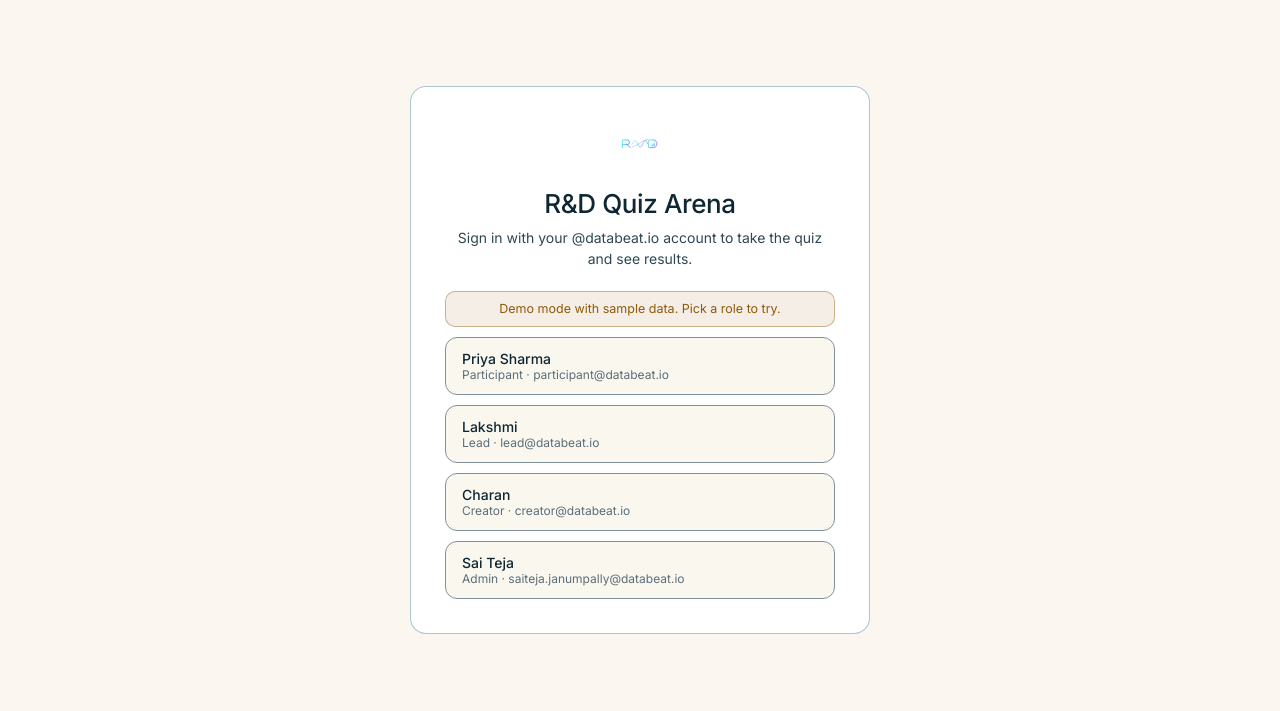
Scenario: removing a profile › signs the person out, keeps their history, and reconnects it when they sign in again
Click the button "Priya Sharma Participant · participant@databeat.io".
click(640, 366)  # box [445,337,835,395]
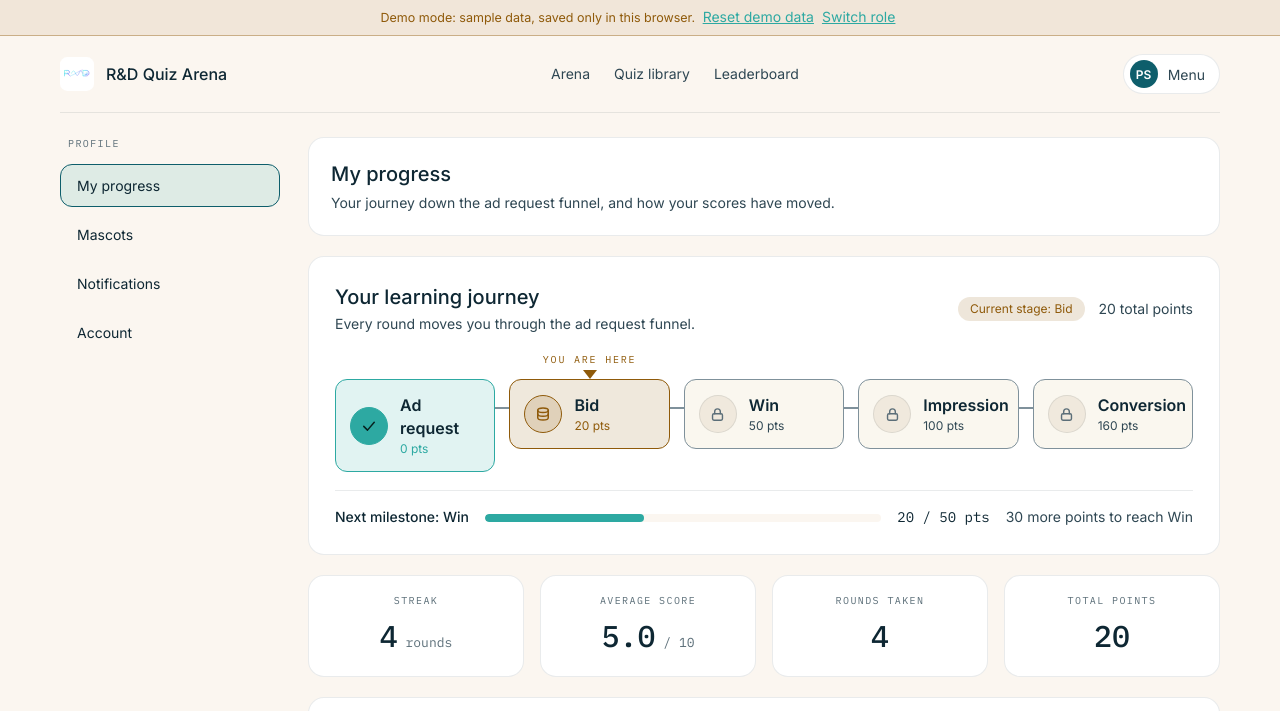
Click the button "Account".
click(170, 332)  # box [60,311,280,354]
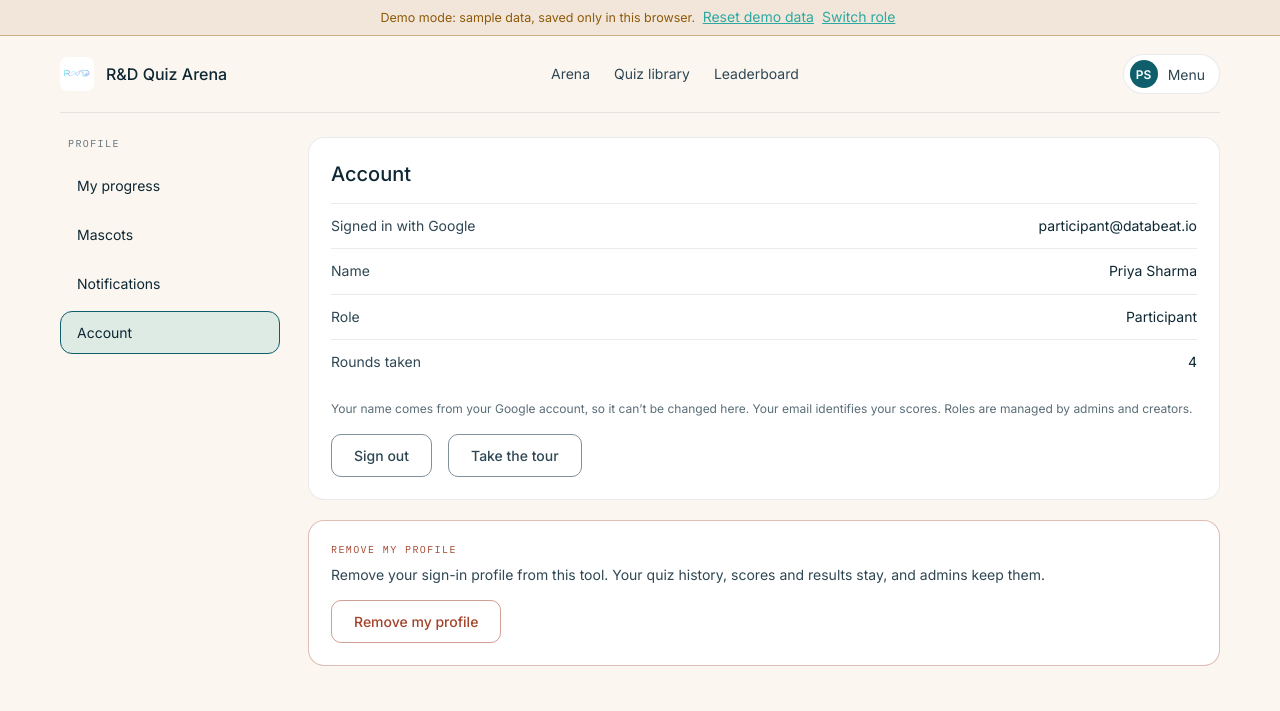
Now the text "can’t be changed here" is shown, box [331,401,1193,416]
Click the button "Remove my profile".
click(416, 621)  # box [331,600,501,642]
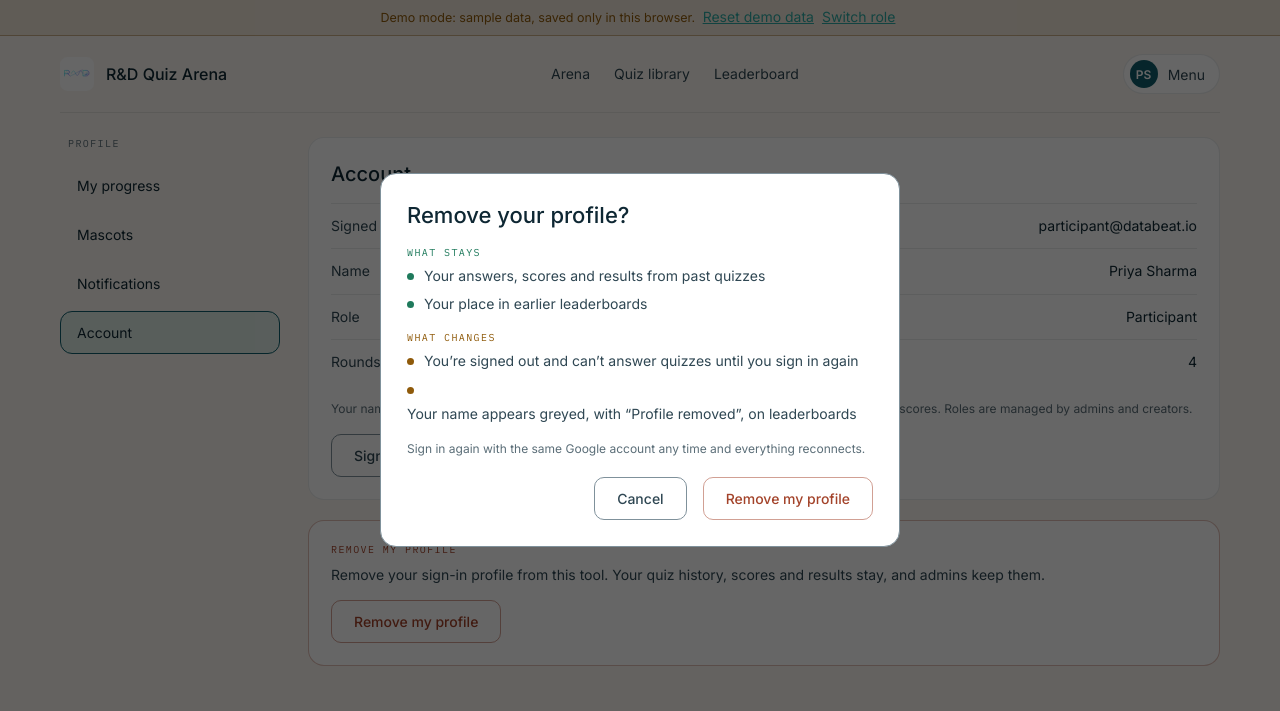
Now the text "Your answers, scores and results from past quizzes" is shown, box [424,266,765,286]
Click the button "Remove my profile".
click(788, 499)  # box [703,477,873,520]
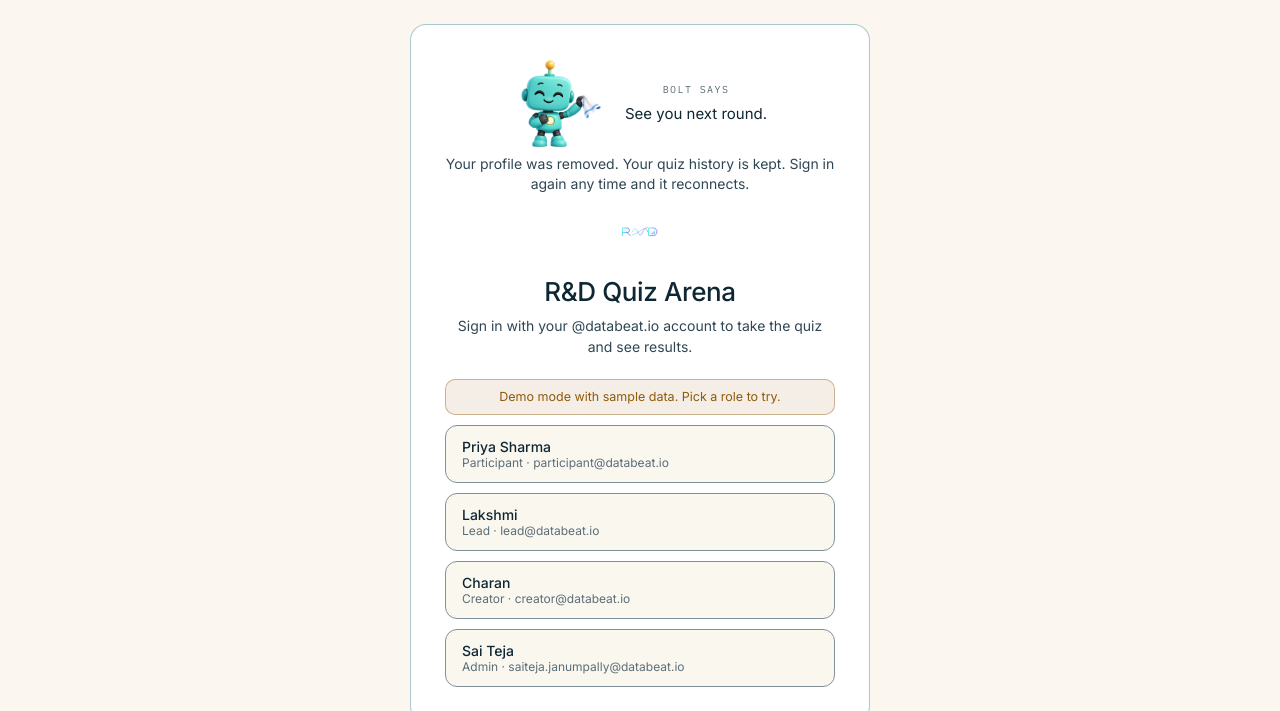
Now the text "Your profile was removed" is shown, box [446,155,834,192]
Click the button "Priya Sharma Participant · participant@databeat.io".
click(640, 454)  # box [445,425,835,483]
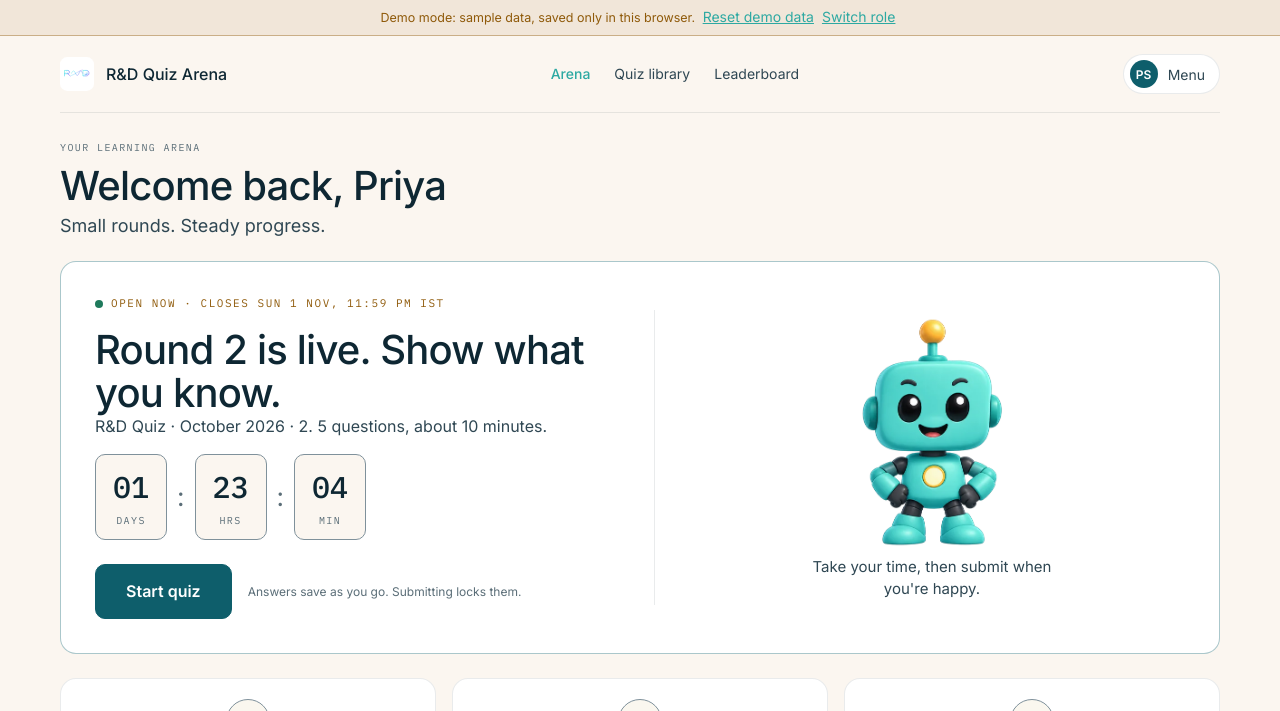
Now the heading "Welcome back, Priya" is shown, box [60,161,446,210]
